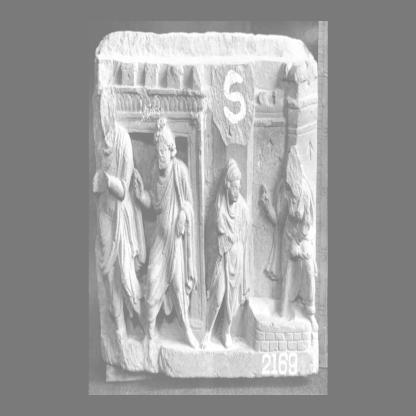buddha-standing: (261, 147, 318, 333)
